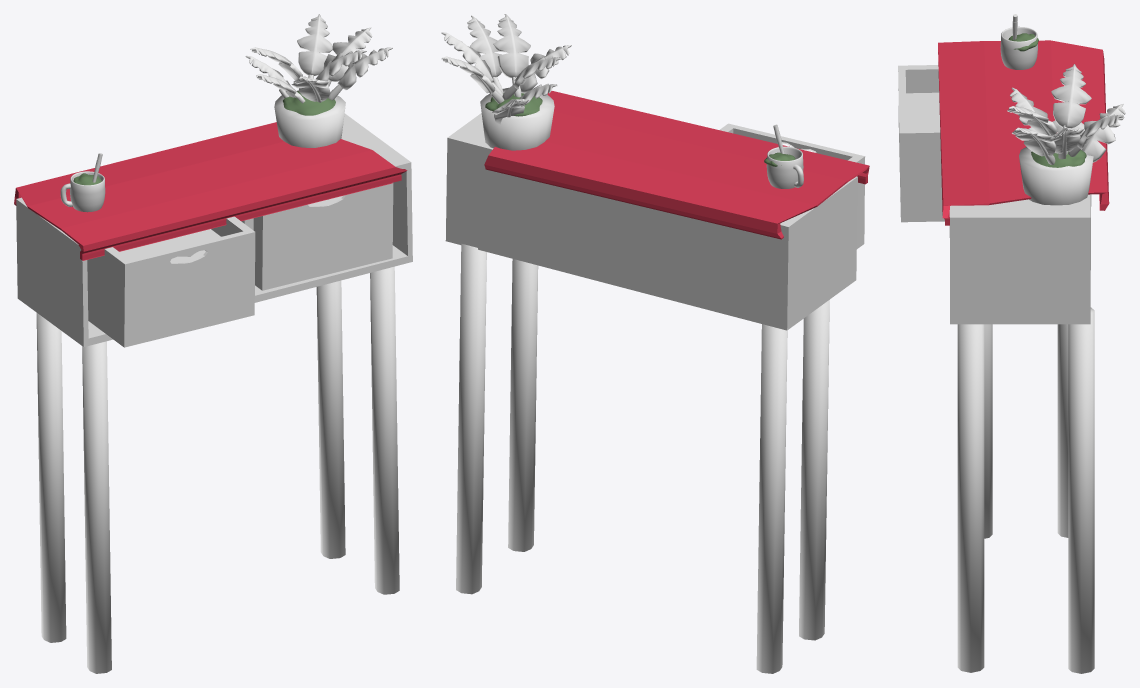
File: tisch 1.fbx
The picture shows the model from 3 angles, left to right: view 1: azimuth 30°, elevation 25°; view 2: azimuth 150°, elevation 25°; view 3: azimuth 270°, elevation 25°; orthographic projection. The views are drawn at different scales.
Visible parts, largest first — view 1: Cube.778, Cube.779, Cube.799, Cube.780, Cube.783, Cube.782, Cube.775, Cube.781, Cube.784, Cube.792, Cylinder.005, Cube.797 (+4 smaller); view 2: Cube.799, Cube.778, Cube.775, Cube.781, Cube.783, Cube.782, Cube.784, Cube.779, Cube.793, Cylinder.005, Cube.796, Cube.797 (+1 smaller); view 3: Cube.778, Cube.799, Cube.782, Cube.781, Cube.779, Cube.784, Cube.775, Cube.783, Cube.774, Cylinder.005, Cube.787, Cube.796 (+5 smaller).
Part boxes in pixels (x1,y1,x2,y2): Cube.778: [14, 122, 407, 260]; Cube.779: [87, 216, 255, 347]; Cube.799: [16, 113, 412, 346]; Cube.780: [253, 183, 393, 290]; Cube.783: [82, 341, 111, 673]; Cube.782: [370, 266, 399, 594]; Cube.775: [36, 313, 66, 642]; Cube.781: [316, 280, 345, 558]; Cube.784: [274, 90, 345, 147]; Cube.792: [297, 14, 332, 76]; Cylinder.005: [60, 171, 105, 212]; Cube.797: [323, 27, 372, 81]; Cube.799: [445, 113, 857, 330]; Cube.778: [484, 91, 869, 239]; Cube.775: [756, 324, 787, 673]; Cube.781: [456, 243, 486, 594]; Cube.783: [799, 299, 829, 640]; Cube.782: [508, 259, 538, 551]; Cube.784: [480, 87, 554, 150]; Cube.779: [719, 123, 865, 248]; Cube.793: [493, 14, 530, 78]; Cylinder.005: [766, 146, 803, 188]; Cube.796: [467, 15, 501, 77]; Cube.797: [441, 32, 494, 82]; Cube.778: [938, 40, 1109, 225]; Cube.799: [950, 194, 1091, 324]; Cube.782: [957, 324, 984, 672]; Cube.781: [1068, 307, 1094, 673]; Cube.779: [898, 65, 944, 222]; Cube.784: [1019, 147, 1093, 205]; Cube.775: [1057, 324, 1068, 537]; Cube.783: [984, 324, 992, 538]; Cube.774: [1051, 64, 1091, 128]; Cylinder.005: [1000, 26, 1037, 69]; Cube.787: [1080, 103, 1125, 162]; Cube.796: [1012, 127, 1056, 156].
Bounding box in the file's own units: 270 × 143 × 395.
